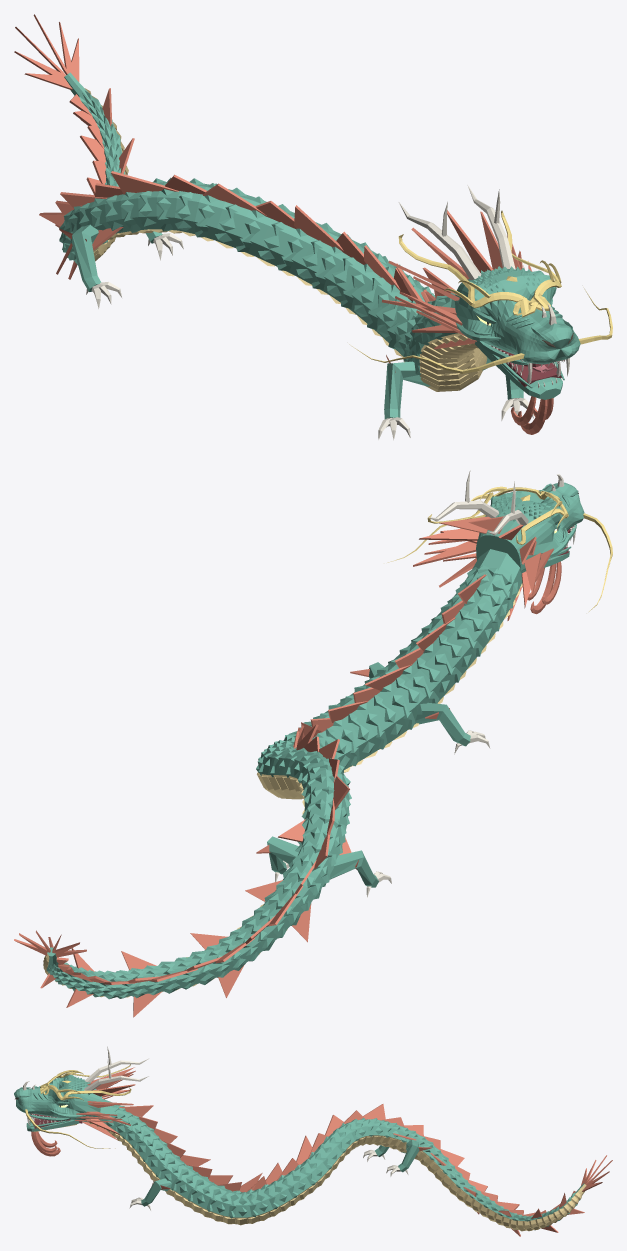
Rendered from Dragon_Long_v9.glb.
The picture shows the model from 3 angles, top to bottom: view 1: azimuth 30°, elevation 25°; view 2: azimuth 150°, elevation 25°; view 3: azimuth 270°, elevation 25°; orthographic projection. The views are drawn at different scales.
Parts seen in each view (by area): view 1: Body, Fins, Horns, Belly, Whiskers, Mouth; view 2: Body, Fins, Horns, Whiskers, Belly; view 3: Body, Fins, Belly, Horns, Whiskers.
Boxes of the visible parts, bbox=[...] form: Body: bbox=[59, 72, 580, 419]; Fins: bbox=[14, 14, 553, 434]; Horns: bbox=[86, 185, 569, 440]; Belly: bbox=[84, 88, 487, 391]; Whiskers: bbox=[349, 210, 612, 373]; Mouth: bbox=[491, 346, 564, 386]; Body: bbox=[46, 482, 584, 999]; Fins: bbox=[14, 516, 561, 1017]; Horns: bbox=[275, 470, 575, 897]; Whiskers: bbox=[387, 486, 612, 611]; Belly: bbox=[43, 583, 522, 997]; Body: bbox=[14, 1075, 584, 1230]; Fins: bbox=[31, 1067, 612, 1236]; Belly: bbox=[34, 1122, 586, 1231]; Horns: bbox=[22, 1046, 408, 1210]; Whiskers: bbox=[25, 1064, 131, 1148].
Size of the model in its own units: 14.48 by 19.17 by 58.01.
